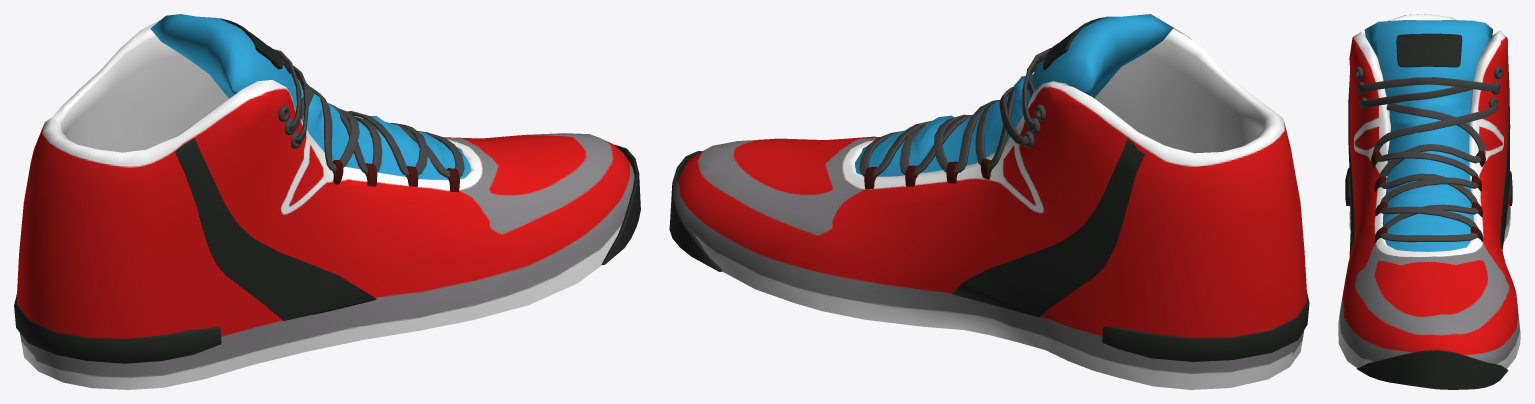
Rendered from Athletic Shoe.fbx.
3 renders of one model, left to right at view 1: azimuth 30°, elevation 25°; view 2: azimuth 150°, elevation 25°; view 3: azimuth 270°, elevation 25°, orthographic. The views are drawn at different scales.
Parts seen in each view (by area): view 1: node_id5; view 2: node_id5; view 3: node_id5.
Boxes of the visible parts, x1,y1,x2,y2 form: node_id5: (14, 14, 640, 389); node_id5: (669, 14, 1309, 389); node_id5: (1338, 14, 1520, 389).
Bounding box in the file's own units: 0.512 × 0.2388 × 0.1711.
Materials: 1 (1 with a texture image).
